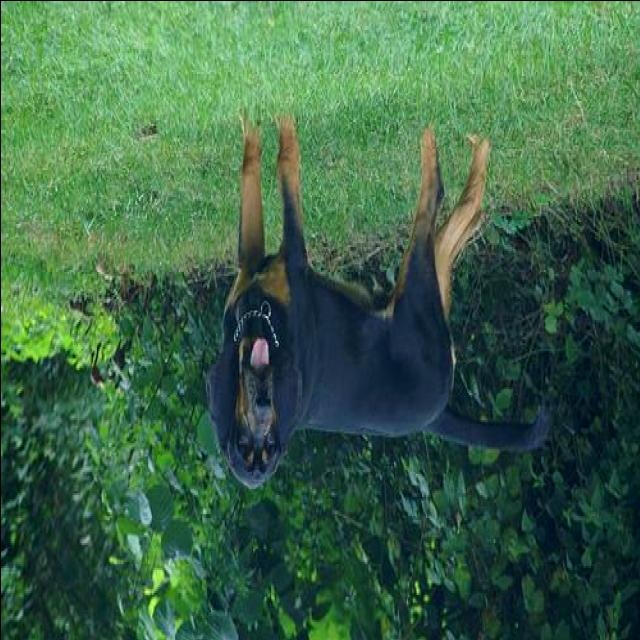bloodhound: (212, 106, 552, 490)
